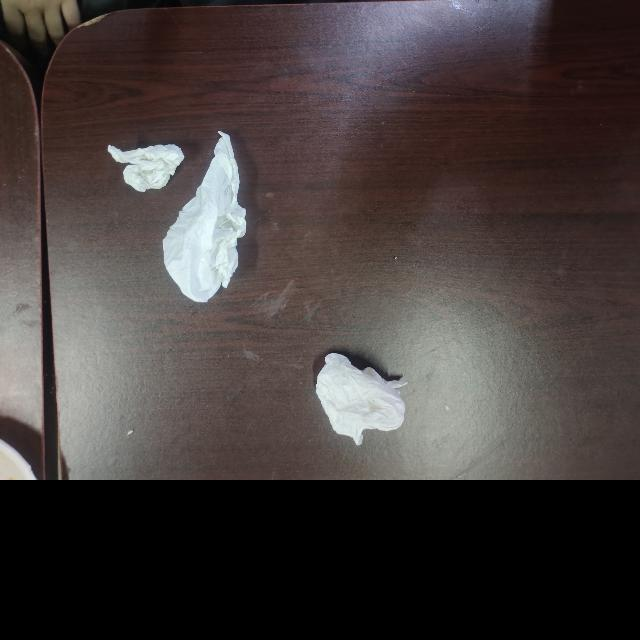kitchen paper: (158, 128, 252, 306), (312, 351, 410, 450), (104, 138, 188, 196)
